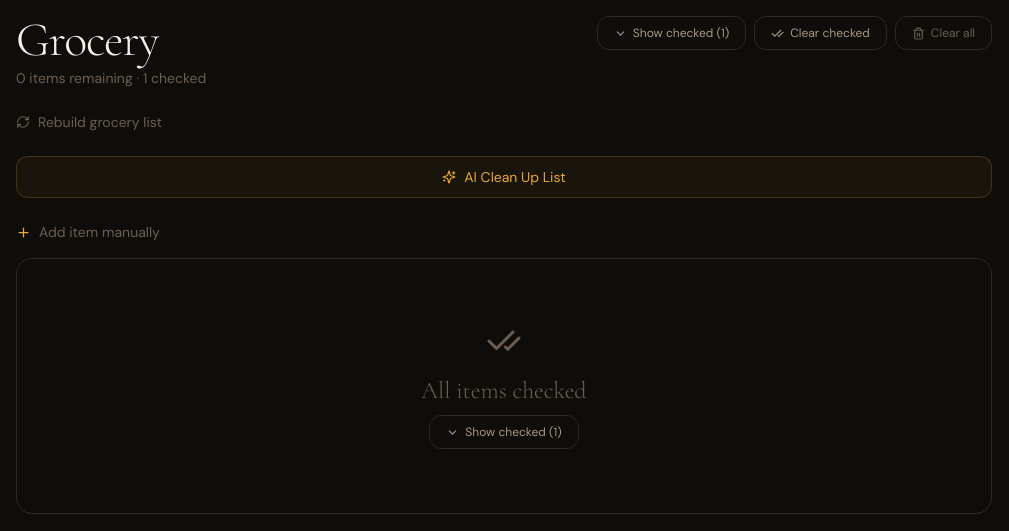
Test case: Usually On Hand section UI › restores a manual category and leaves checked state untouched
Click the 1st button "Show checked (1)": point(672, 33) [597,16,746,50]
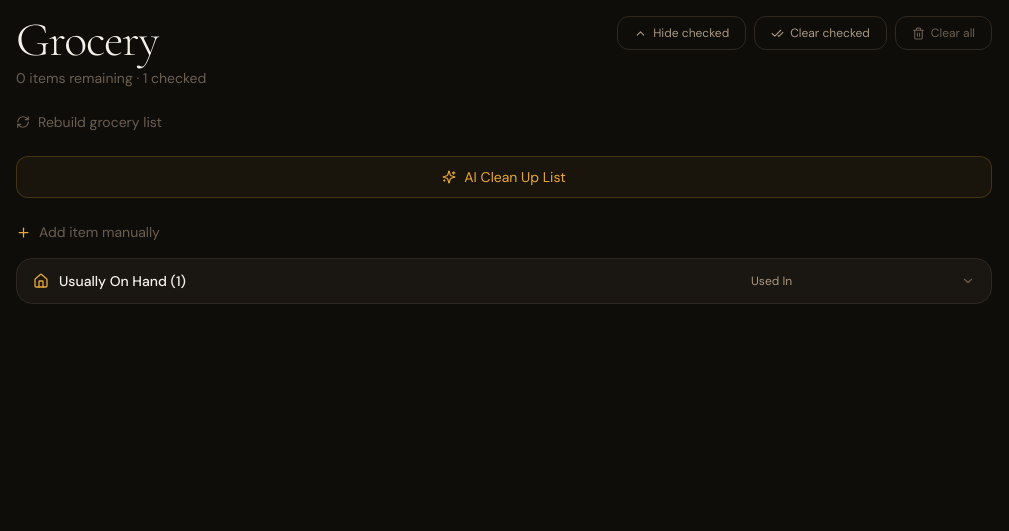
Click the button "Usually On Hand (1) Used In": point(122, 281) [17,259,991,303]
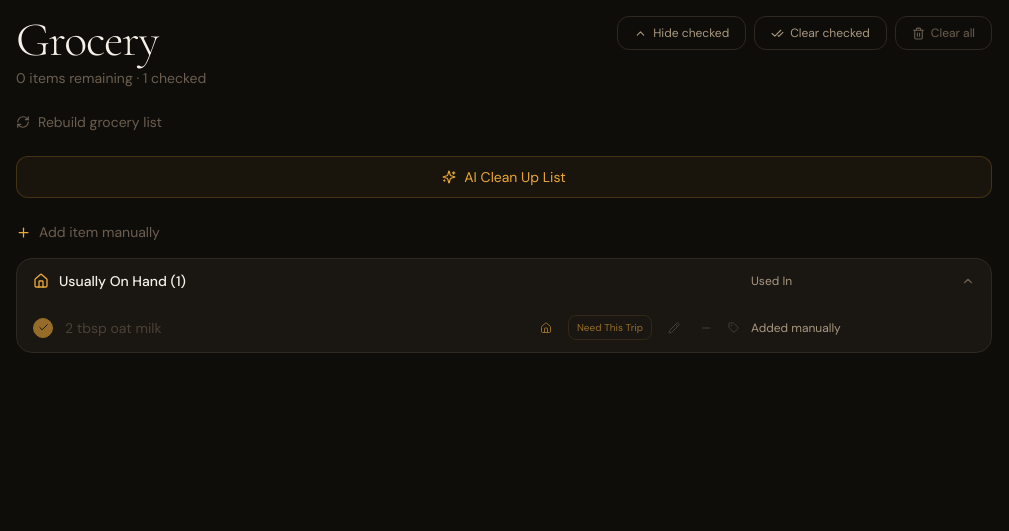
Click the button with aria-label "Need oat milk This Trip": point(610, 328) [568,315,652,340]
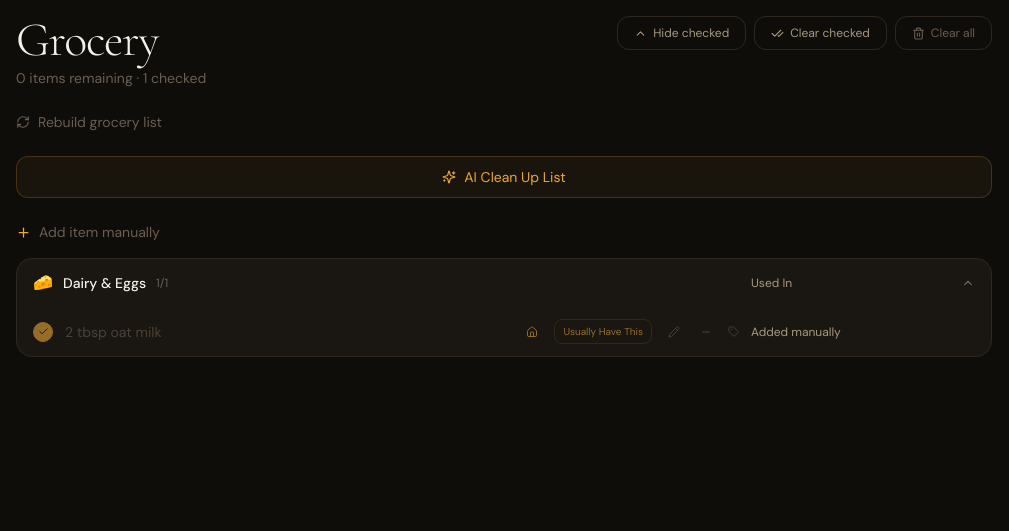
Expected: the button named "Mark oat milk unchecked" is shown, [33,322,53,342]
Expected: the text "Dairy & Eggs" is shown, [63,273,146,293]
